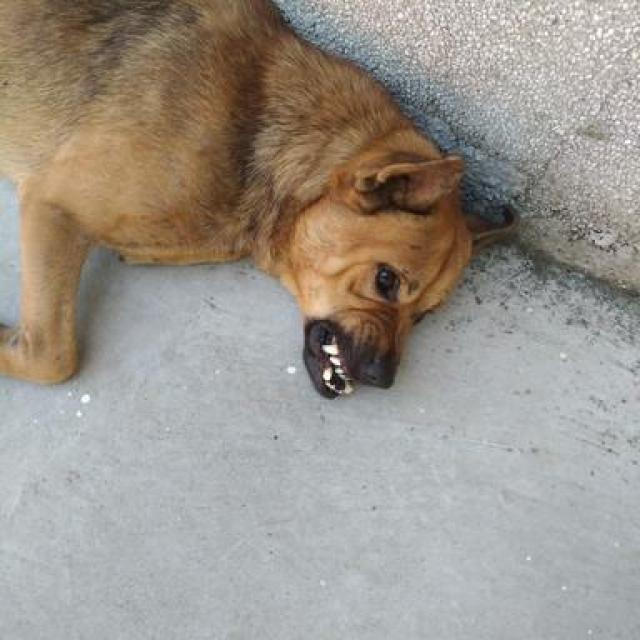angry: (96, 13, 628, 504)
